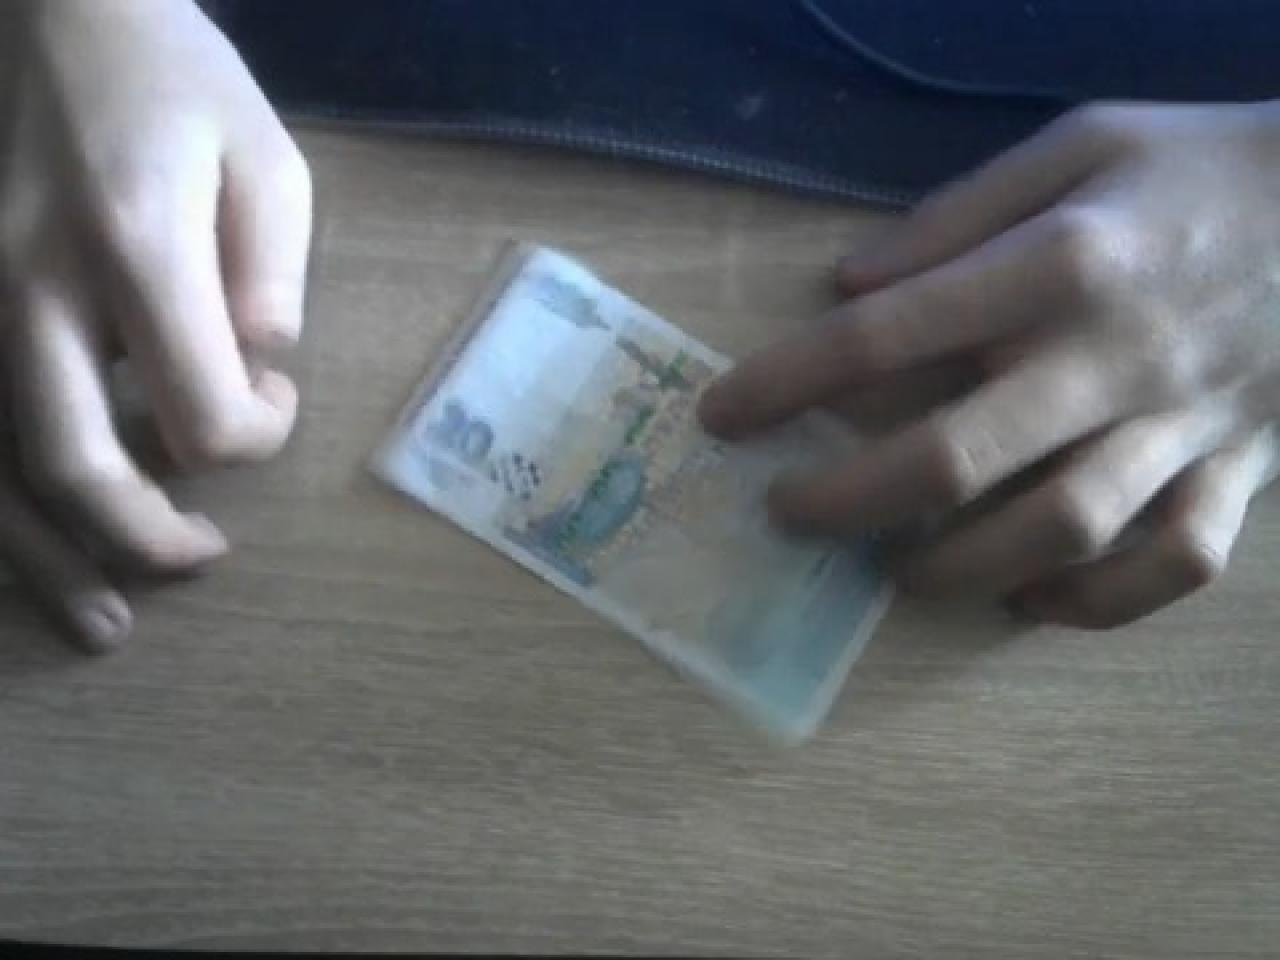20leva: (365, 245, 896, 752)
